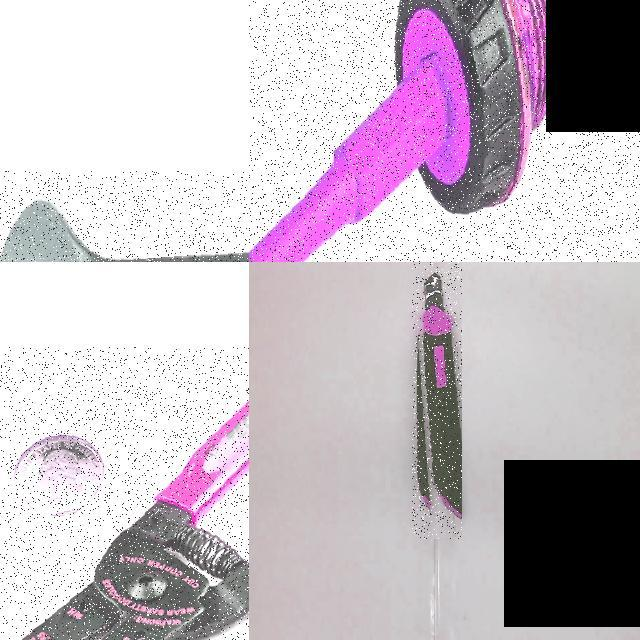estilete: (417, 273, 461, 517)
